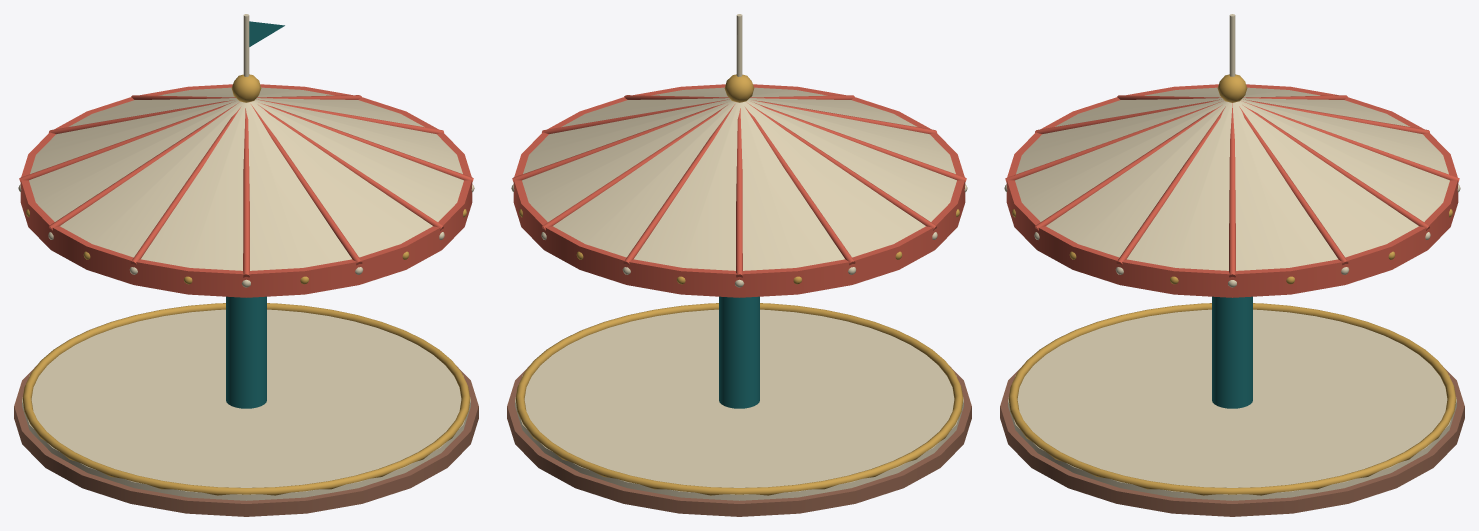
Rendered from ride_carousel.glb.
3 renders of one model, left to right at view 1: azimuth 30°, elevation 25°; view 2: azimuth 150°, elevation 25°; view 3: azimuth 270°, elevation 25°, orthographic.
Parts seen in each view (by area): view 1: ride_carousel; view 2: ride_carousel; view 3: ride_carousel.
Part boxes in pixels (<box>): ride_carousel: <box>14,14,478,516</box>; ride_carousel: <box>507,14,971,516</box>; ride_carousel: <box>1000,14,1464,516</box>.
Bounding box in the file's own units: 7.2 × 6.9 × 7.2.
